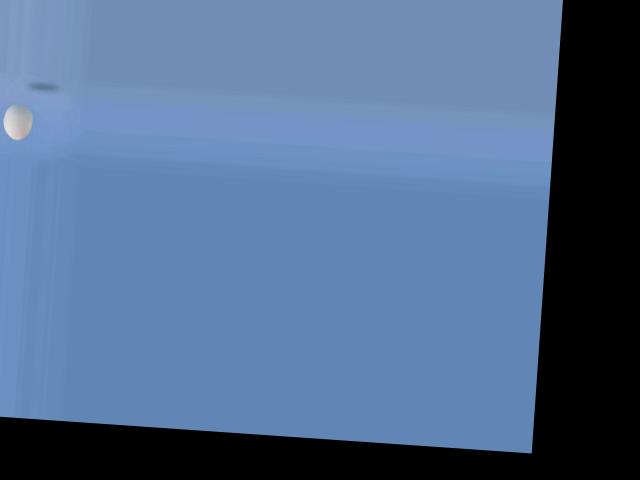egg: (1, 102, 33, 140)
